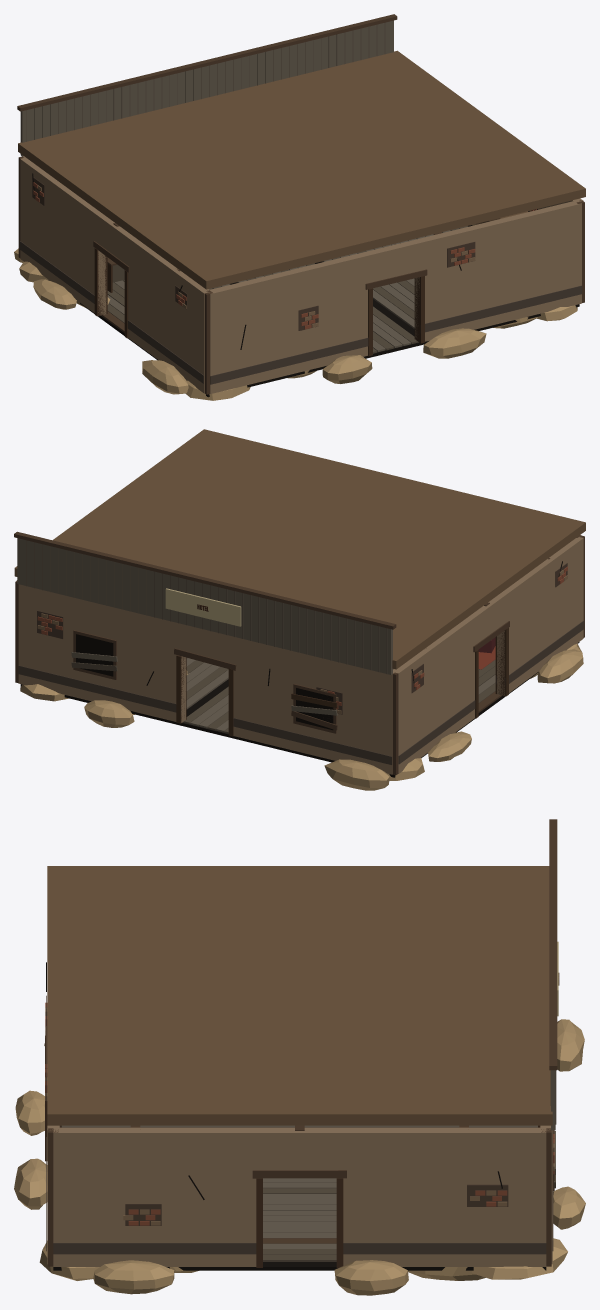
The model's file is TownBldg_hotel.glb.
3 renders of one model, top to bottom at view 1: azimuth 30°, elevation 25°; view 2: azimuth 150°, elevation 25°; view 3: azimuth 270°, elevation 25°, orthographic. The views are drawn at different scales.
Visible parts, largest first — view 1: TownBldg_hotel.001; view 2: TownBldg_hotel.001; view 3: TownBldg_hotel.001.
Boxes of the visible parts, box(x1,y1,x2,y2) form: TownBldg_hotel.001: box(14, 14, 585, 400); TownBldg_hotel.001: box(14, 429, 585, 790); TownBldg_hotel.001: box(14, 819, 585, 1295).
Size of the model in its own units: 15.9 by 5.98 by 13.92.
